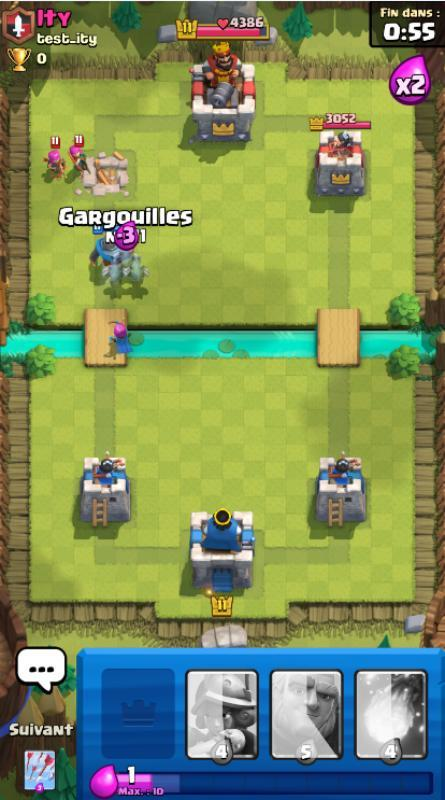archere: (42, 135, 68, 181), (68, 134, 91, 180), (107, 318, 134, 356)
chevalier: (89, 222, 135, 268)
gargouille: (123, 254, 151, 285), (102, 255, 124, 285), (115, 241, 137, 267)
